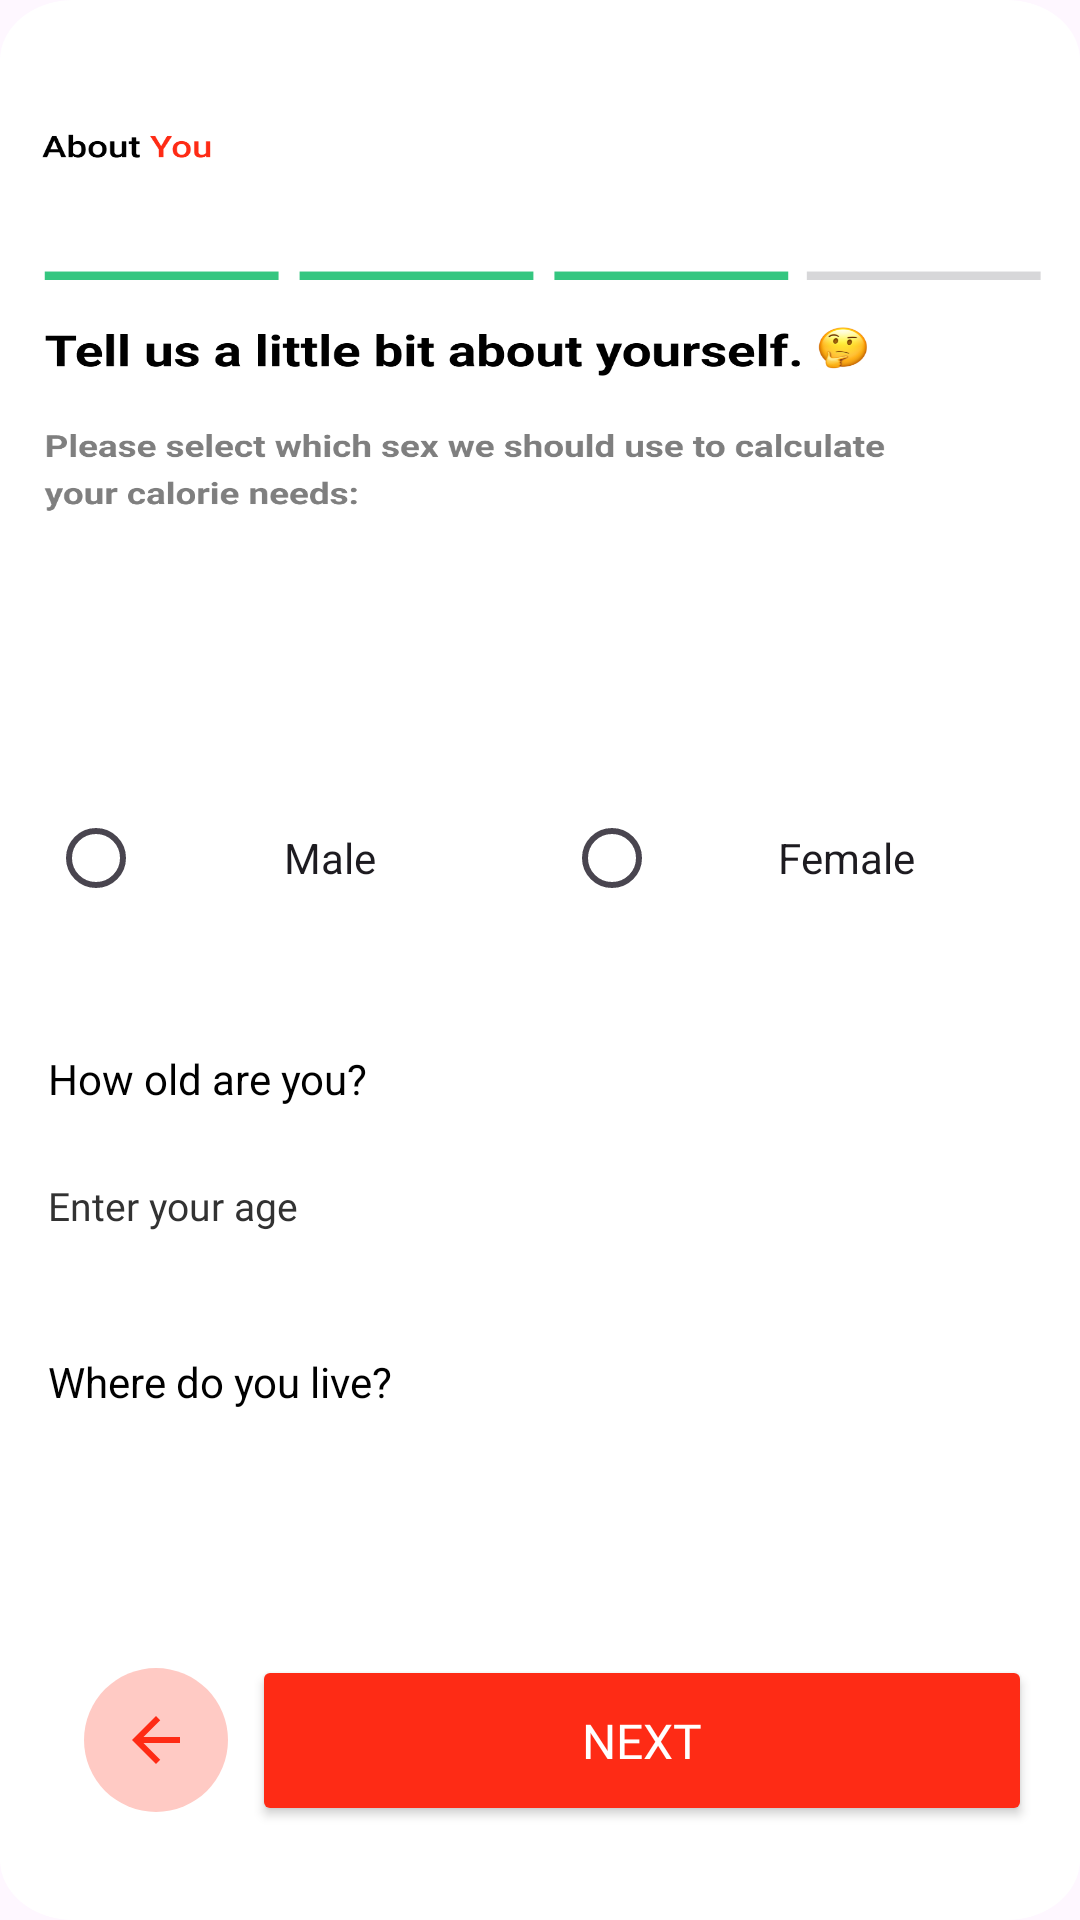

Icon bounding boxes for this 1080px×1920px phone screenshot, format [x1=x1, y1=y1, x2=x2, y2=y2]:
Back: [x1=84, y1=1668, x2=228, y2=1812]
